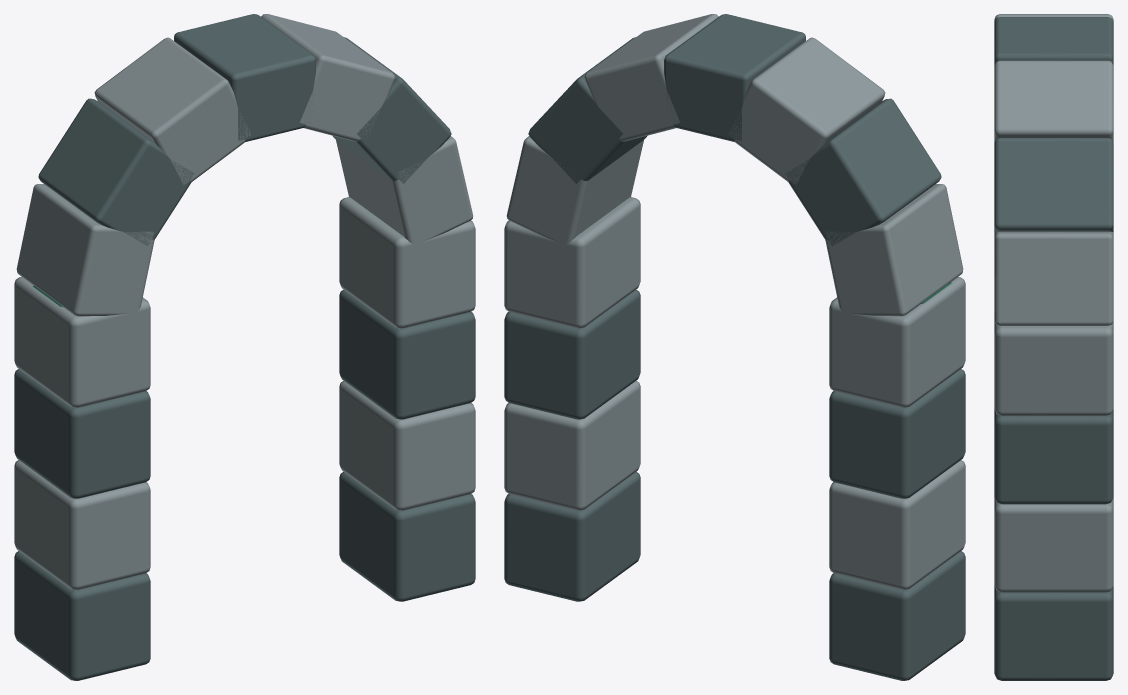
Rendered from stone-arch.glb.
The picture shows the model from 3 angles, left to right: view 1: azimuth 30°, elevation 25°; view 2: azimuth 150°, elevation 25°; view 3: azimuth 270°, elevation 25°; orthographic projection. The views are drawn at different scales.
Parts seen in each view (by area): view 1: arch-block-5, pier-0.84-2, pier--0.84-2, pier-0.84-1, pier--0.84-1, pier-0.84-0, pier--0.84-0, pier-0.84-3, pier--0.84-3, arch-block-4, arch-block-6, arch-block-3 (+3 smaller); view 2: arch-block-5, pier-0.84-2, pier--0.84-2, pier-0.84-1, pier--0.84-1, pier-0.84-0, pier--0.84-0, pier-0.84-3, pier--0.84-3, arch-block-4, arch-block-6, arch-block-3 (+3 smaller); view 3: arch-block-0, arch-block-1, pier-0.84-3, pier-0.84-0, pier-0.84-1, pier-0.84-2, arch-block-2, arch-block-3, arch-block-4.
Boxes of the visible parts, x1,y1,x2,y2 form: arch-block-5: (38,98,194,245); pier-0.84-2: (339,289,475,419); pier--0.84-2: (14,369,150,498); pier-0.84-1: (339,380,475,510); pier--0.84-1: (14,460,150,589); pier-0.84-0: (339,471,475,601); pier--0.84-0: (14,551,150,680); pier-0.84-3: (339,197,475,328); pier--0.84-3: (14,277,150,407); arch-block-4: (94,37,250,184); arch-block-6: (16,184,154,316); arch-block-3: (174,14,315,141); arch-block-5: (785,98,941,246); pier-0.84-2: (504,289,640,419); pier--0.84-2: (829,369,965,498); pier-0.84-1: (504,380,640,510); pier--0.84-1: (829,460,965,589); pier-0.84-0: (504,471,640,601); pier--0.84-0: (829,551,965,680); pier-0.84-3: (504,197,640,328); pier--0.84-3: (829,277,965,407); arch-block-4: (729,37,885,184); arch-block-6: (825,184,963,316); arch-block-3: (664,14,805,141); arch-block-0: (994,231,1113,325); arch-block-1: (994,137,1113,231); pier-0.84-3: (994,321,1113,415); pier-0.84-0: (994,586,1113,680); pier-0.84-1: (994,497,1113,592); pier-0.84-2: (994,409,1113,504); arch-block-2: (994,60,1113,142); arch-block-3: (994,17,1113,65); arch-block-4: (994,14,1113,21).
Bounding box in the file's own units: 2.1 × 2.81 × 0.55.
